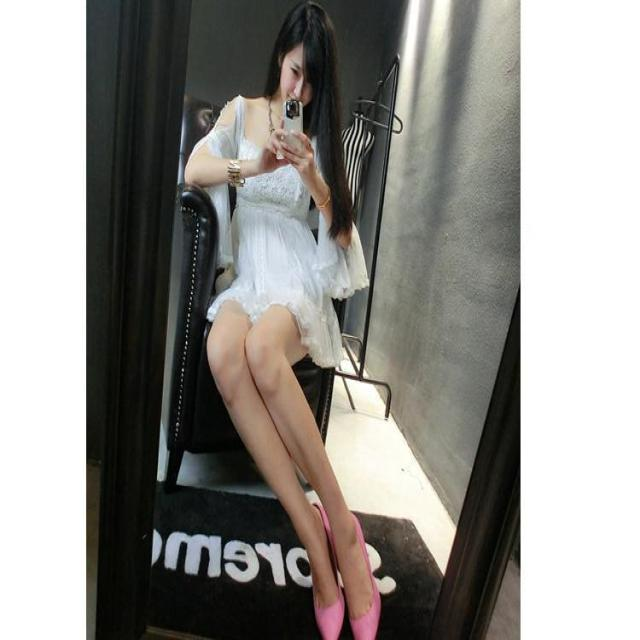long sleeve dress: (189, 98, 369, 365)
